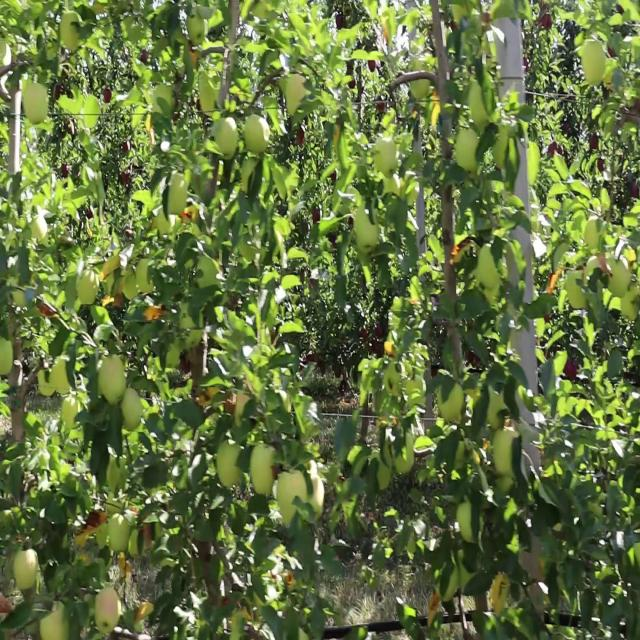apple: (276, 468, 308, 525), (250, 443, 276, 496), (99, 356, 128, 402), (475, 243, 500, 294), (493, 426, 519, 474), (95, 586, 121, 633), (216, 441, 242, 488), (455, 128, 479, 176), (581, 37, 604, 86), (355, 204, 377, 254), (244, 114, 270, 156), (14, 546, 38, 591), (214, 117, 238, 160), (59, 11, 84, 52), (24, 82, 48, 124), (374, 136, 398, 178), (166, 170, 188, 215), (286, 73, 308, 117), (607, 254, 629, 297), (438, 383, 464, 419), (38, 608, 67, 640), (120, 389, 142, 430), (76, 269, 100, 306), (307, 470, 324, 522), (107, 514, 129, 551), (566, 270, 587, 308), (393, 433, 414, 471), (457, 501, 475, 542), (621, 282, 639, 319), (186, 11, 205, 46), (0, 336, 16, 377), (584, 217, 605, 248), (136, 260, 154, 292), (54, 358, 70, 392), (62, 400, 78, 427), (38, 370, 54, 395), (31, 217, 47, 239)
